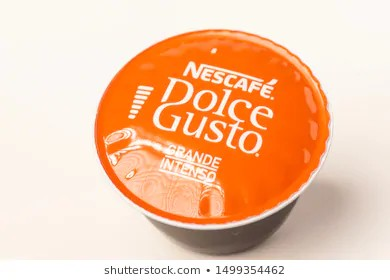nescafe-dolce: (88, 26, 335, 230)
